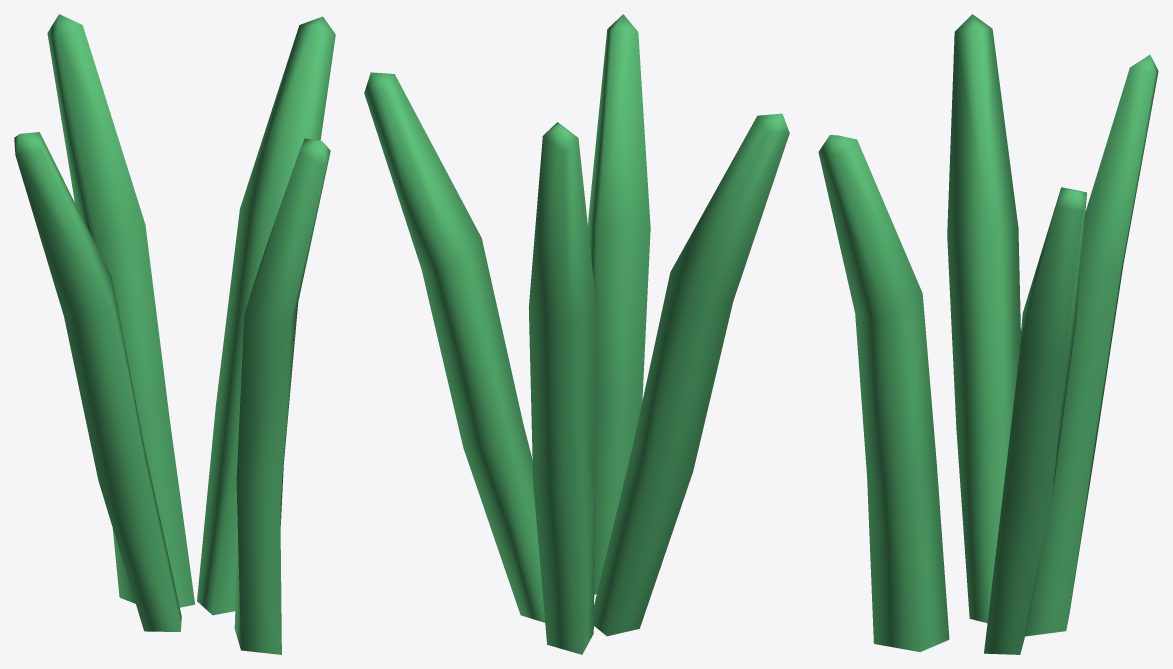
File: Grass_B_03_LOD2.gltf
3 views of the same model, side by side, from view 1: azimuth 30°, elevation 25°; view 2: azimuth 150°, elevation 25°; view 3: azimuth 270°, elevation 25° (orthographic). The views are drawn at different scales.
Parts seen in each view (by area): view 1: Grass_B_03_LOD2_Cube.715; view 2: Grass_B_03_LOD2_Cube.715; view 3: Grass_B_03_LOD2_Cube.715.
Boxes of the visible parts, <box> form: Grass_B_03_LOD2_Cube.715: <box>14,14,335,654</box>; Grass_B_03_LOD2_Cube.715: <box>364,14,789,654</box>; Grass_B_03_LOD2_Cube.715: <box>818,14,1158,654</box>.
Bounding box in the file's own units: 3.69 × 5.39 × 3.02.
Materials: 1 (1 with a texture image).
